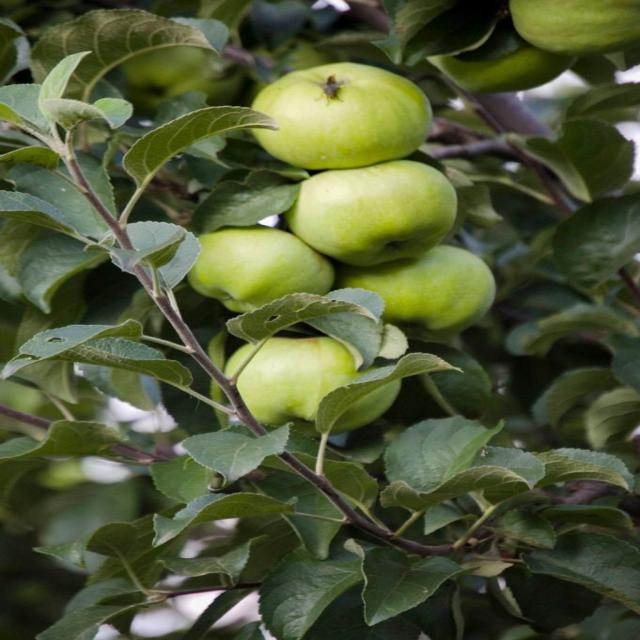Green Apple: (286, 162, 464, 259), (250, 64, 441, 154), (231, 329, 400, 423), (338, 239, 499, 325), (185, 222, 324, 302), (114, 40, 236, 105), (438, 35, 571, 93), (511, 1, 640, 56)
